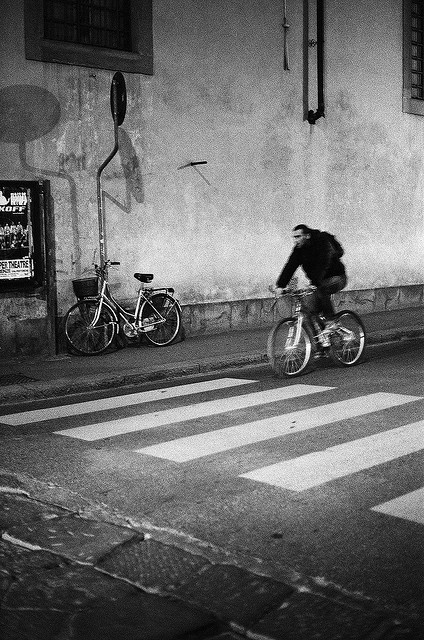non-vehicle: (66, 257, 185, 354), (268, 283, 365, 376)
